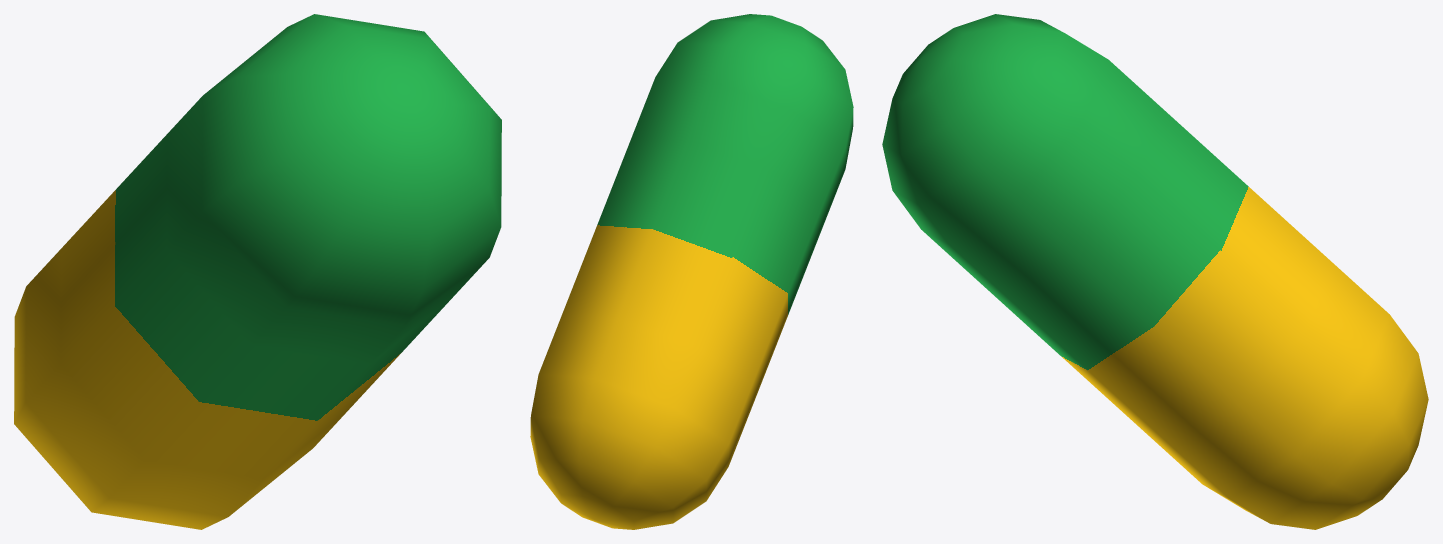
The model's file is Librium.FBX.
3 renders of one model, left to right at view 1: azimuth 30°, elevation 25°; view 2: azimuth 150°, elevation 25°; view 3: azimuth 270°, elevation 25°, orthographic. The views are drawn at different scales.
Visible parts, largest first — view 1: Librium; view 2: Librium; view 3: Librium.
Part boxes in pixels (<box>): Librium: <box>14,14,501,529</box>; Librium: <box>530,14,853,529</box>; Librium: <box>882,14,1428,529</box>.
Bounding box in the file's own units: 0.5431 × 1.12 × 1.12.
Materials: 1 (1 with a texture image).
